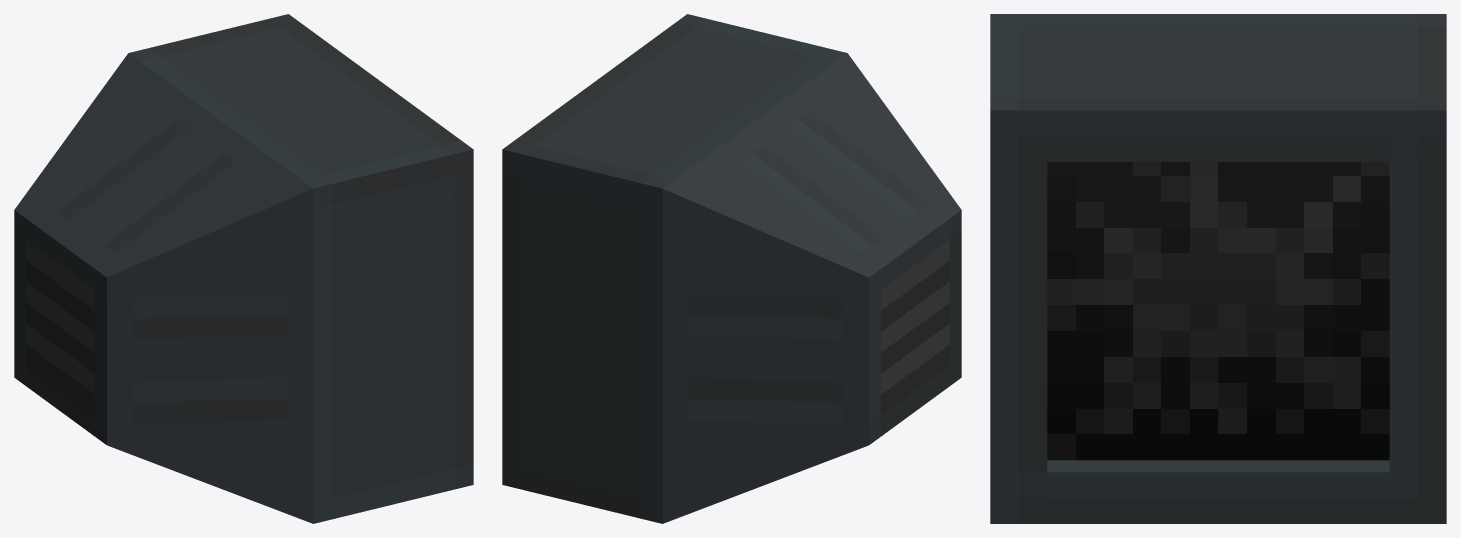
The model's file is crt_broken.obj.
The picture shows the model from 3 angles, left to right: view 1: azimuth 30°, elevation 25°; view 2: azimuth 150°, elevation 25°; view 3: azimuth 270°, elevation 25°; orthographic projection. The views are drawn at different scales.
Parts seen in each view (by area): view 1: Monitor; view 2: Monitor; view 3: Monitor, Screen.
Part boxes in pixels (bbox=[...]): Monitor: bbox=[14, 14, 473, 523]; Monitor: bbox=[502, 14, 961, 523]; Monitor: bbox=[990, 14, 1446, 523]; Screen: bbox=[1047, 162, 1389, 460].
Size of the model in its own units: 1 by 1 by 1.
